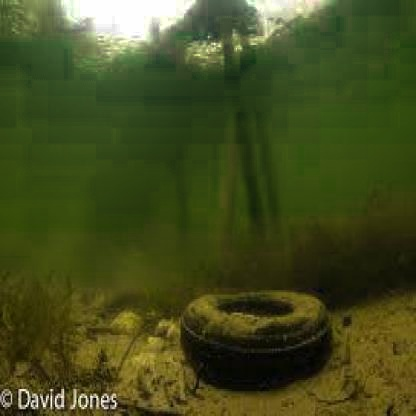tire: (184, 281, 338, 398)
